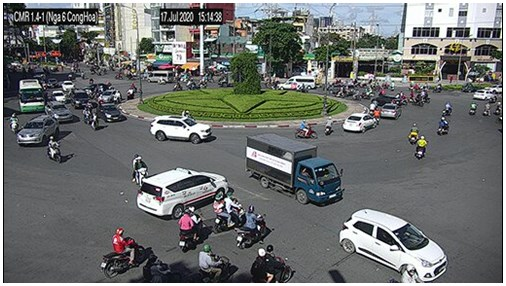xe_buyt: (19, 79, 45, 112)
xe_hoi: (338, 208, 448, 281), (136, 166, 228, 219), (149, 116, 213, 143), (16, 115, 59, 145), (342, 113, 378, 133), (45, 101, 72, 122), (97, 103, 120, 123), (71, 89, 90, 109), (98, 90, 120, 102), (472, 88, 492, 100), (277, 81, 302, 90), (52, 90, 66, 102)
xe_khach: (145, 70, 173, 84), (287, 76, 315, 88)
xe_may: (101, 227, 147, 279), (252, 245, 293, 282), (193, 244, 230, 283), (236, 205, 268, 250), (213, 192, 247, 233), (177, 204, 203, 251), (131, 153, 147, 187), (295, 120, 318, 140), (46, 135, 61, 164), (414, 136, 427, 161), (89, 111, 101, 133), (438, 115, 450, 136), (409, 123, 419, 145), (9, 112, 18, 136), (412, 92, 425, 108), (440, 101, 452, 116), (482, 101, 492, 117), (325, 117, 333, 136), (469, 100, 478, 115), (373, 107, 380, 125), (126, 86, 134, 101), (81, 108, 88, 125), (367, 102, 375, 115), (172, 80, 181, 91), (188, 82, 199, 91)
